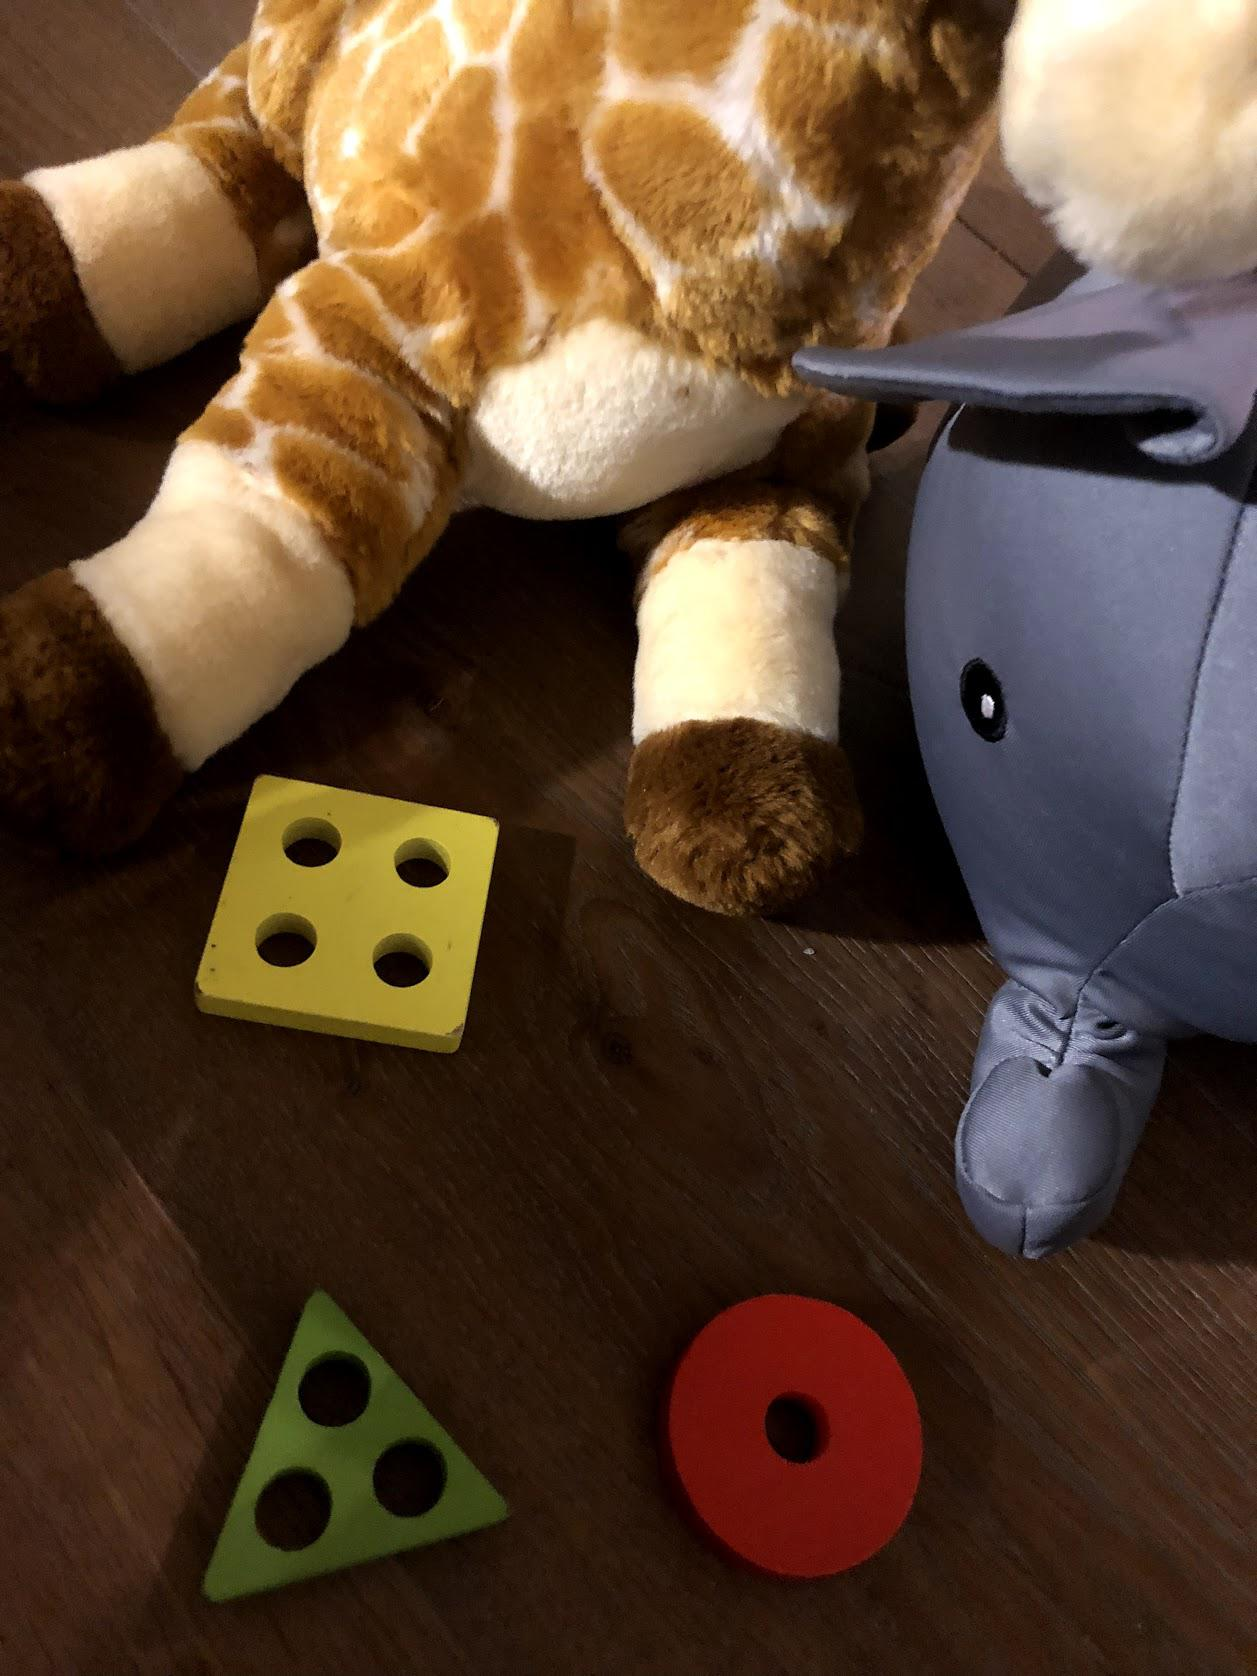Circle: (662, 1289, 930, 1585)
Square: (191, 768, 504, 1064)
Triangle: (199, 1285, 512, 1594)
